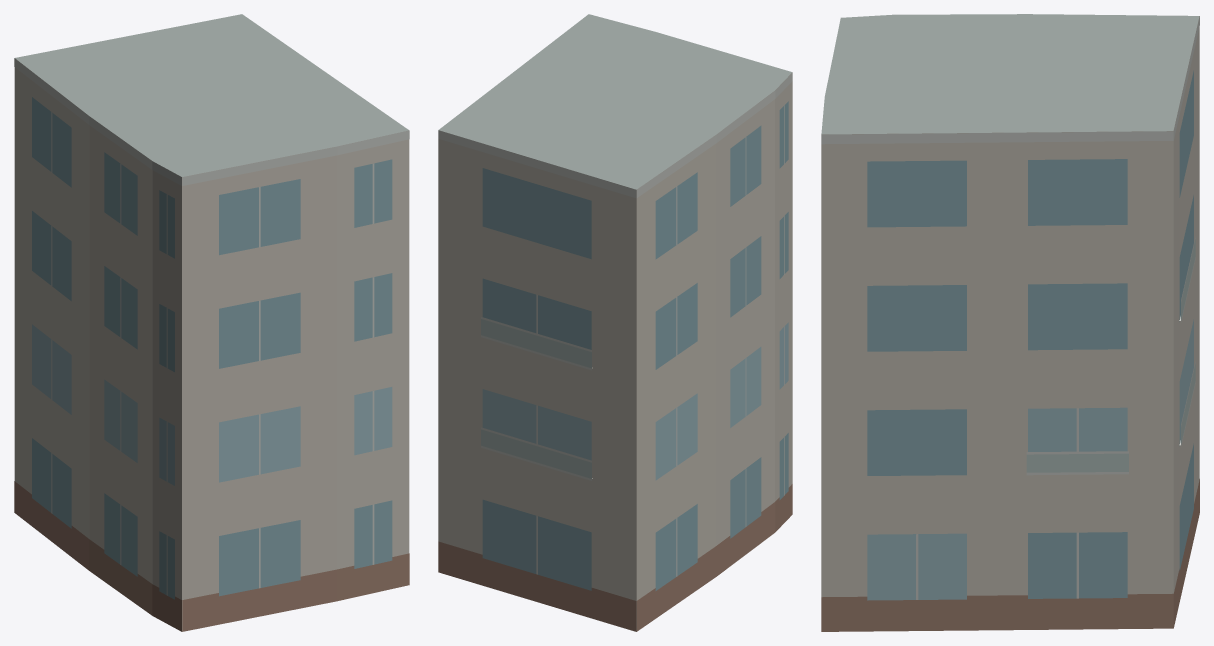
The model's file is survey-upis-32471744.glb.
3 renders of one model, left to right at view 1: azimuth 30°, elevation 25°; view 2: azimuth 150°, elevation 25°; view 3: azimuth 270°, elevation 25°, orthographic. The views are drawn at different scales.
Parts seen in each view (by area): view 1: survey-upis-32471744.tmp; view 2: survey-upis-32471744.tmp; view 3: survey-upis-32471744.tmp.
Boxes of the visible parts, box(x1,y1,x2,y2) form: survey-upis-32471744.tmp: box(14, 14, 409, 631); survey-upis-32471744.tmp: box(438, 14, 792, 631); survey-upis-32471744.tmp: box(821, 14, 1199, 631).
Bounding box in the file's own units: 6.45 × 12.4 × 8.56.
